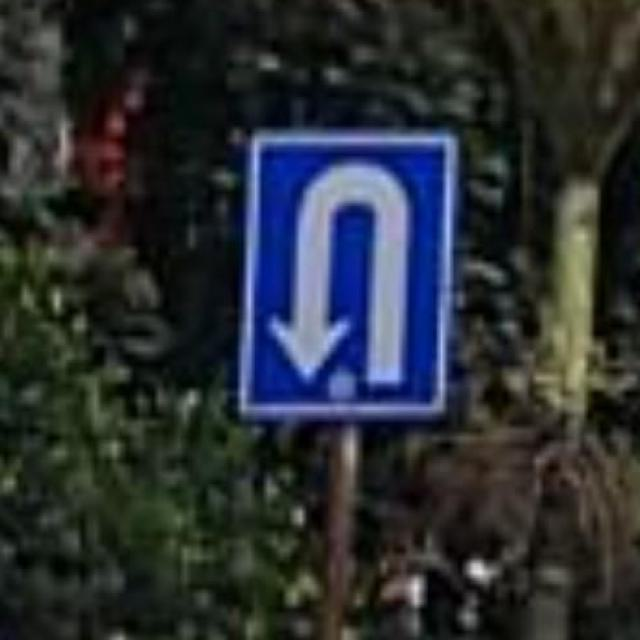U-turn: (252, 135, 444, 415)
